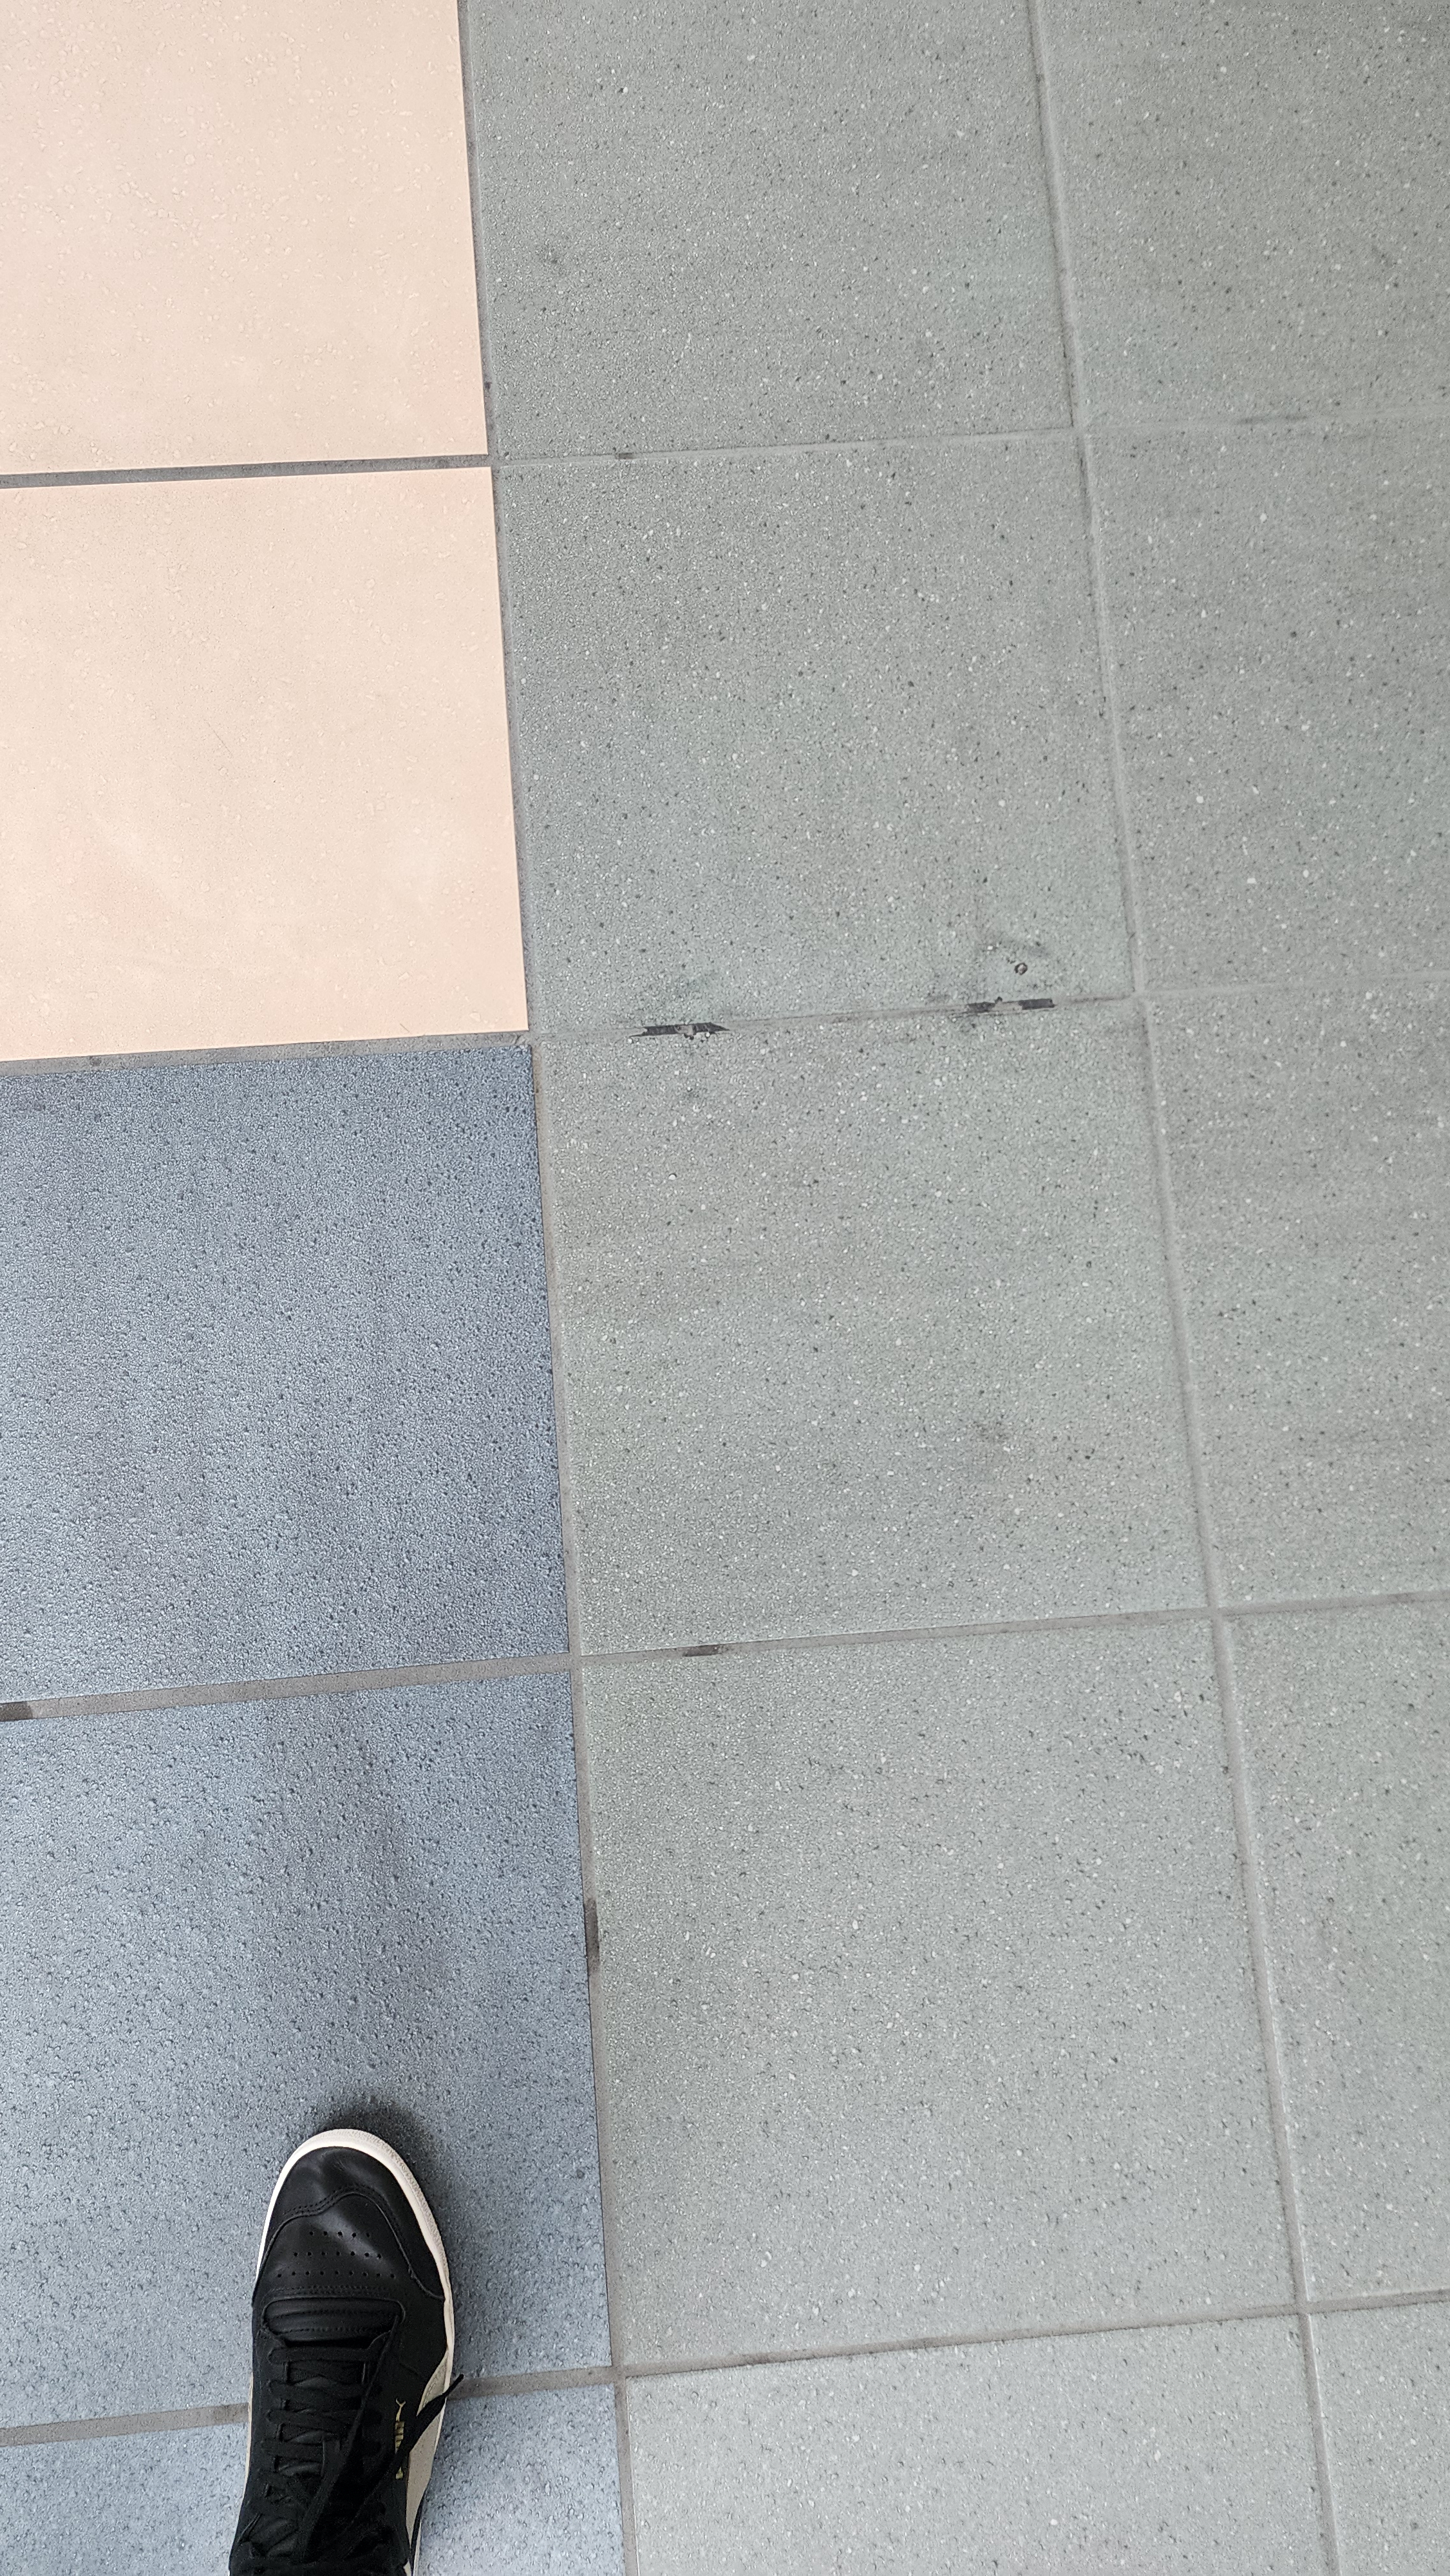Stain: (932, 918, 1089, 1044), (626, 980, 752, 1058), (569, 1879, 622, 1989), (658, 1631, 755, 1686)
